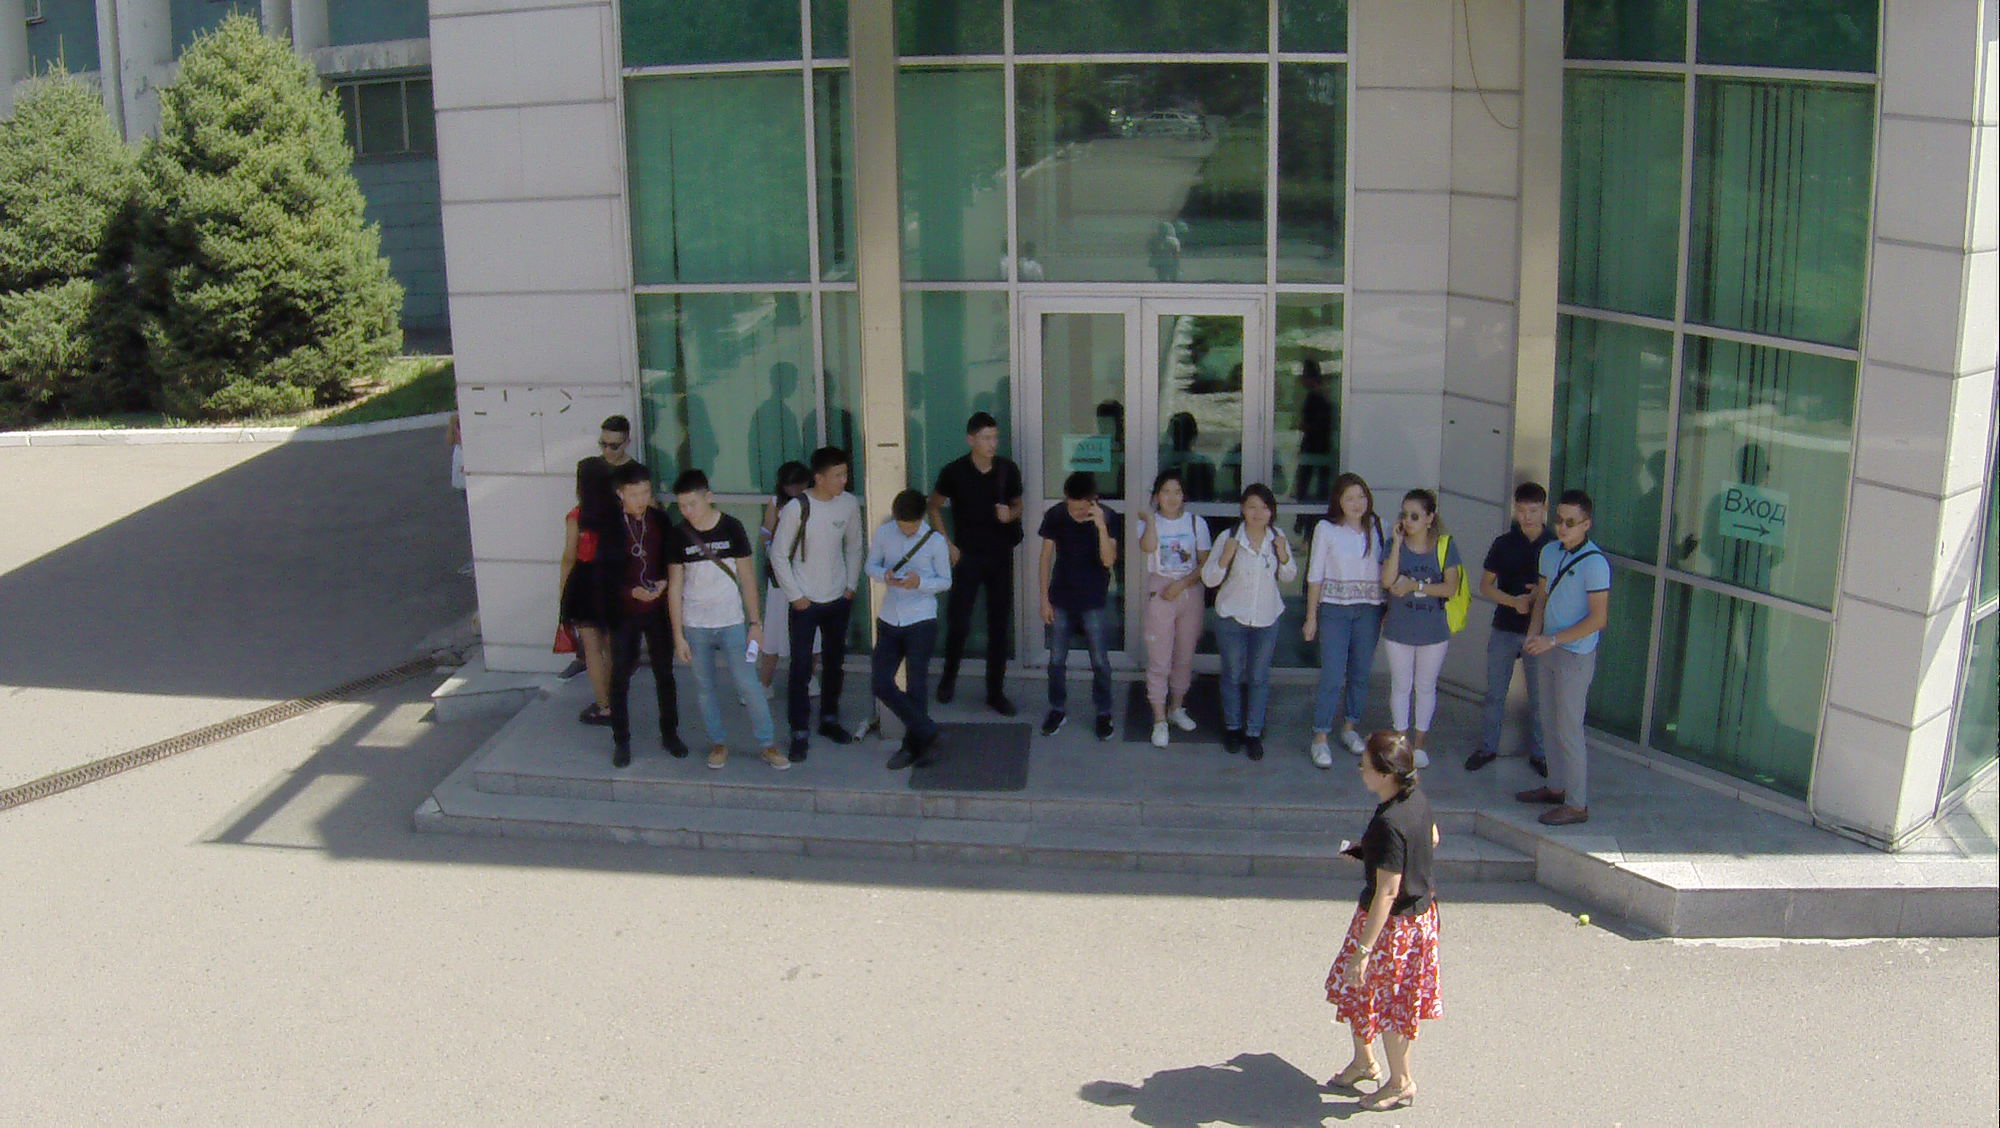person: (1314, 718, 1449, 1116), (1505, 489, 1624, 841), (1347, 470, 1480, 774), (776, 443, 870, 770), (937, 410, 1030, 728), (1301, 466, 1393, 789), (1205, 483, 1301, 772), (1466, 472, 1551, 785), (868, 489, 960, 776), (1043, 468, 1132, 762), (680, 466, 764, 770), (551, 464, 641, 739), (612, 468, 680, 772), (1137, 466, 1203, 753), (580, 410, 639, 483)
